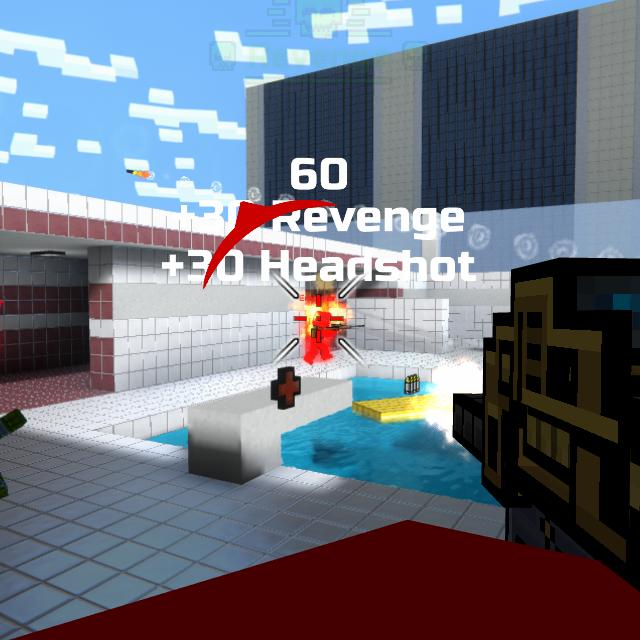Enemy: (306, 310, 340, 365)
